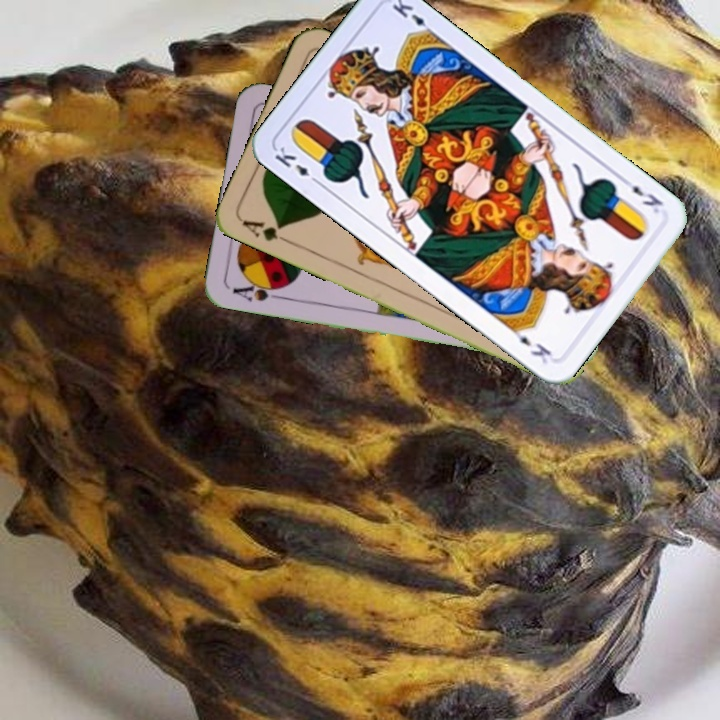EK: (270, 142, 323, 188), (617, 173, 666, 216)
GA: (238, 216, 295, 247)
SA: (228, 276, 288, 305)
